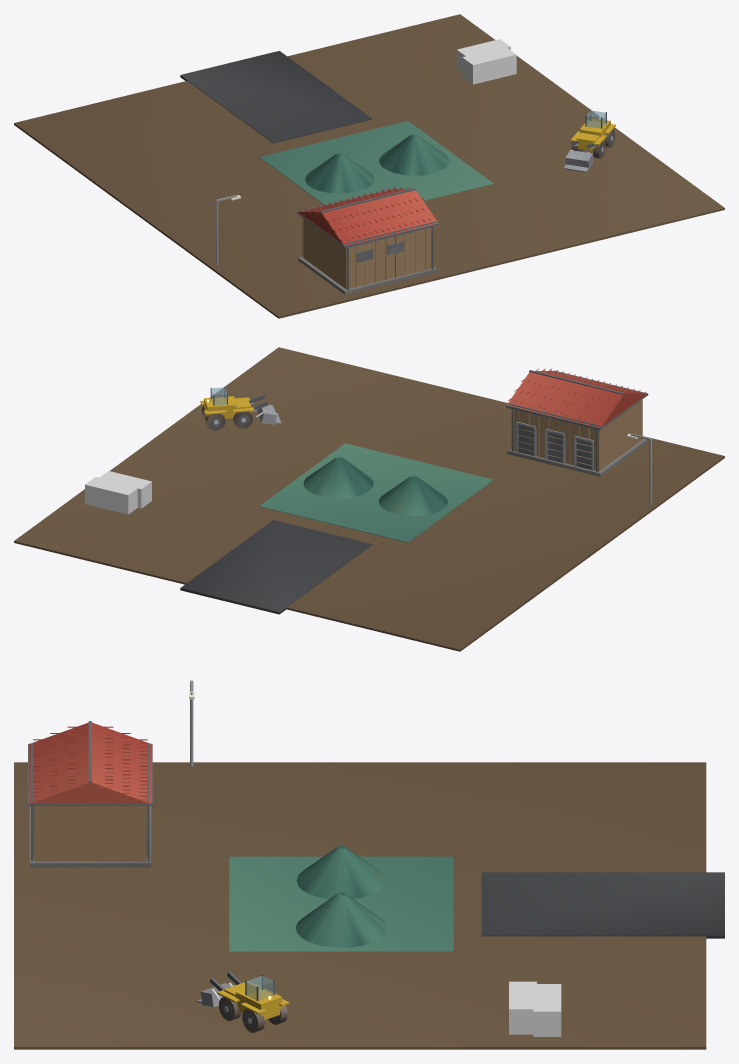
File: Depot_P1.fbx
3 views of the same model, one above another, from view 1: azimuth 30°, elevation 25°; view 2: azimuth 150°, elevation 25°; view 3: azimuth 270°, elevation 25° (orthographic). The views are drawn at different scales.
Parts seen in each view (by area): view 1: Depot.Yard, Depot.Shed1, Depot.Containers, Depot.Pile0, Depot.Loader, Depot.Pile1; view 2: Depot.Yard, Depot.Shed1, Depot.Containers, Depot.Loader, Depot.Pile0, Depot.Pile1; view 3: Depot.Yard, Depot.Shed1, Depot.Pile0, Depot.Loader, Depot.Pile1, Depot.Containers.
Part boxes in pixels (x1,y1,x2,y2): Depot.Yard: (14,14,724,318); Depot.Shed1: (297,186,439,294); Depot.Containers: (456,39,516,84); Depot.Pile0: (379,134,449,175); Depot.Loader: (564,109,615,172); Depot.Pile1: (305,153,374,193); Depot.Yard: (14,347,724,651); Depot.Shed1: (506,368,648,476); Depot.Containers: (85,471,151,514); Depot.Loader: (200,386,281,430); Depot.Pile0: (303,456,373,498); Depot.Pile1: (379,475,447,516); Depot.Yard: (14,762,724,1049); Depot.Shed1: (28,721,152,867); Depot.Pile0: (295,892,387,947); Depot.Loader: (196,971,289,1032); Depot.Pile1: (296,846,386,898); Depot.Containers: (509,981,561,1036).
Bounding box in the file's own units: 7200 × 1055 × 7600.
